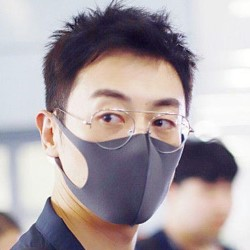mask: (38, 113, 182, 225)
